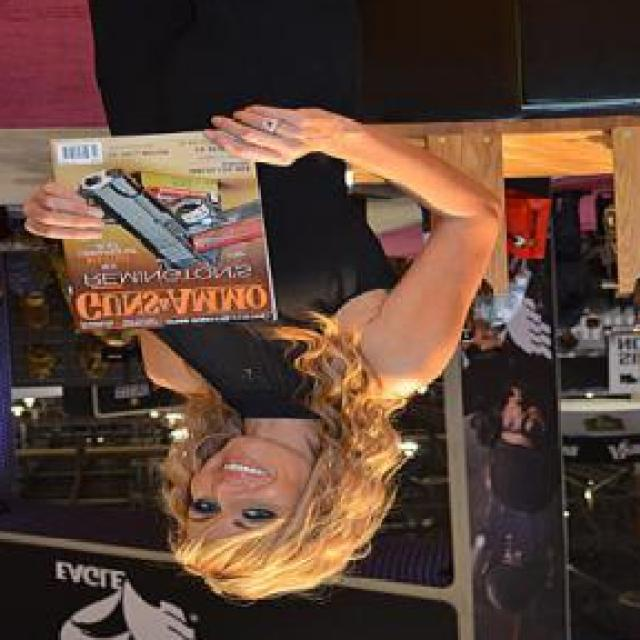pistol: (73, 161, 221, 269)
